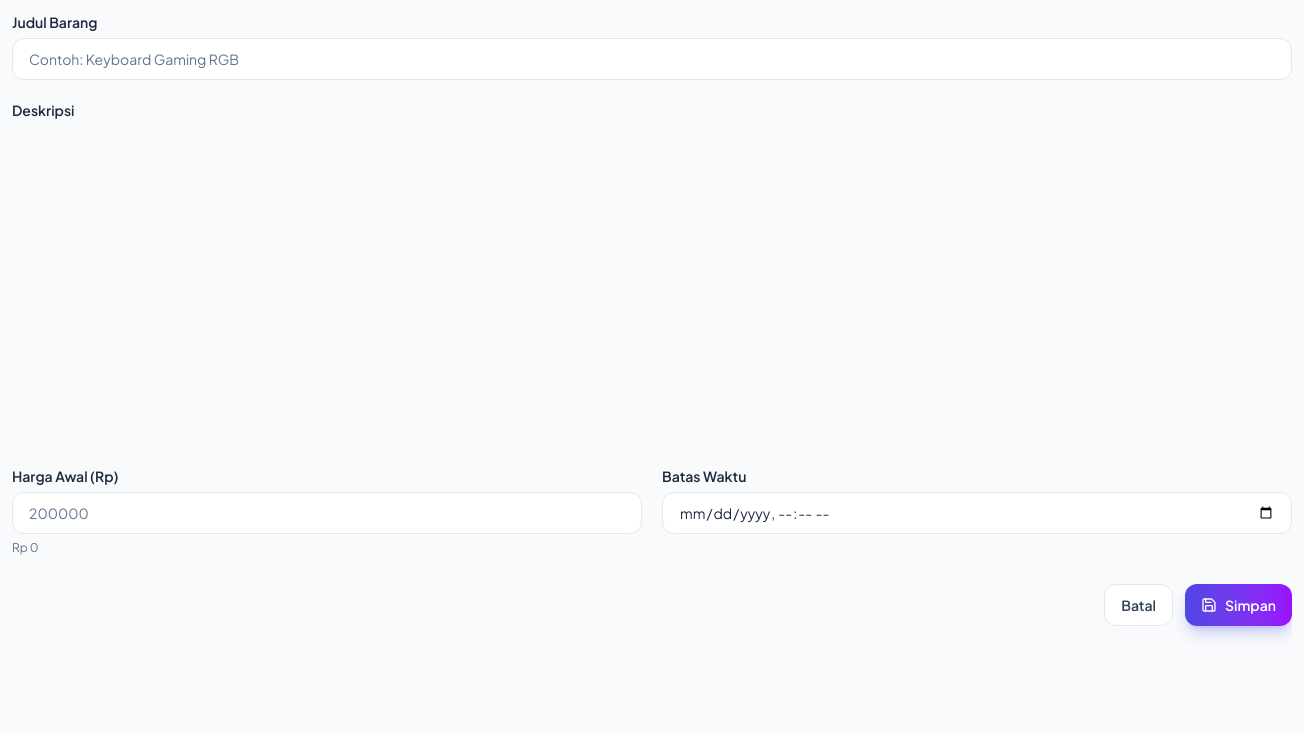
Test: AucationForm › menampilkan pratinjau rupiah saat harga awal diisi
This screenshot has width=1304, height=732.
Type "15000" into the number field with id "aucation-start-bid".
click(327, 513); type("15000")  # box [12, 492, 642, 534]
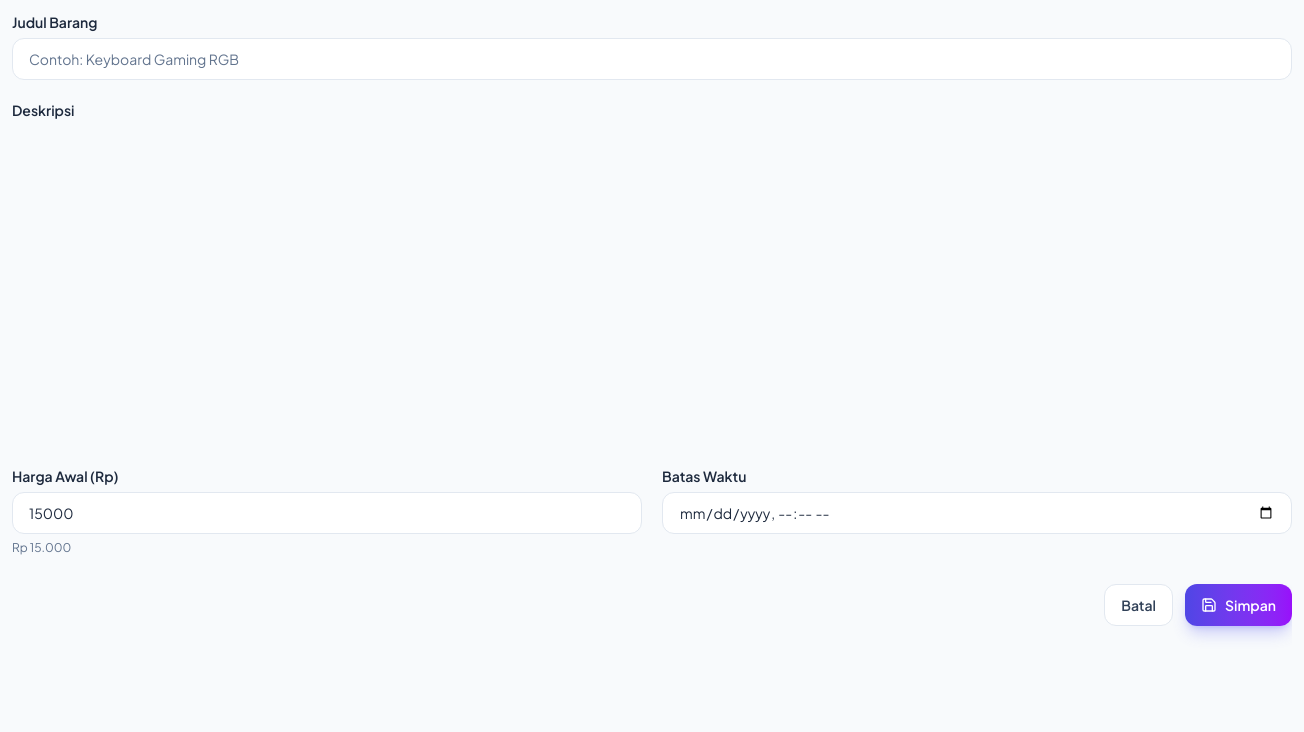
Result: the text "Rp 15.000" is shown at [12, 540, 71, 555]
